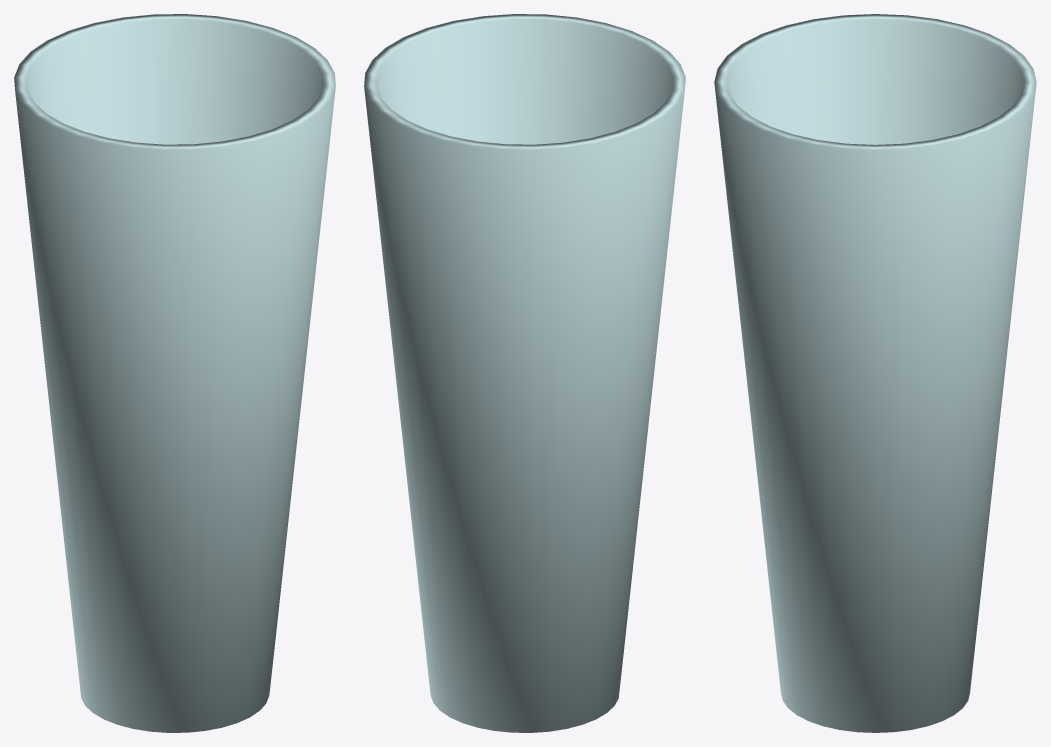
Rendered from Cup2.fbx.
3 views of the same model, side by side, from view 1: azimuth 30°, elevation 25°; view 2: azimuth 150°, elevation 25°; view 3: azimuth 270°, elevation 25° (orthographic).
Parts seen in each view (by area): view 1: Cup1.001; view 2: Cup1.001; view 3: Cup1.001.
Boxes of the visible parts, x1,y1,x2,y2 form: Cup1.001: (14,14,335,732); Cup1.001: (364,14,685,732); Cup1.001: (714,14,1036,732).
Size of the model in its own units: 9.65 by 20.17 by 9.65.
